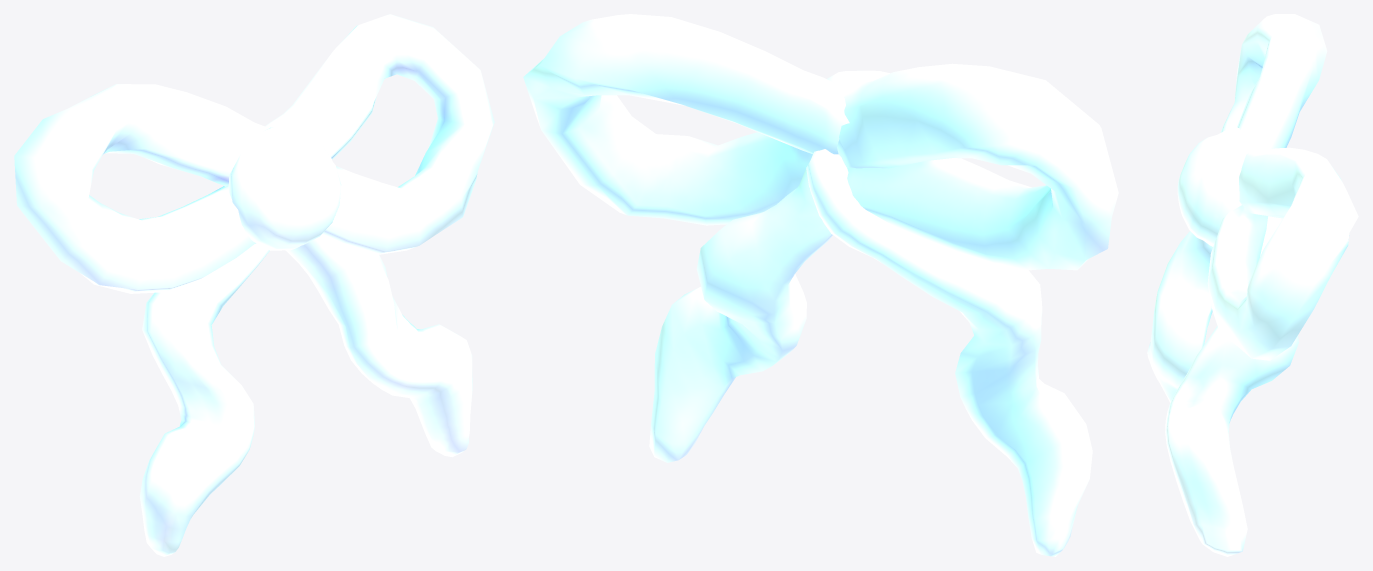
File: kokardka2.glb
The picture shows the model from 3 angles, left to right: view 1: azimuth 30°, elevation 25°; view 2: azimuth 150°, elevation 25°; view 3: azimuth 270°, elevation 25°; orthographic projection. The views are drawn at different scales.
Visible parts, largest first — view 1: Ribbon3; view 2: Ribbon3; view 3: Ribbon3.
Part boxes in pixels (bbox=[...]): Ribbon3: bbox=[14, 14, 494, 556]; Ribbon3: bbox=[523, 14, 1118, 556]; Ribbon3: bbox=[1147, 14, 1358, 556].
Size of the model in its own units: 0.0186 by 0.0164 by 0.00765.
1 material, 1 textured.
